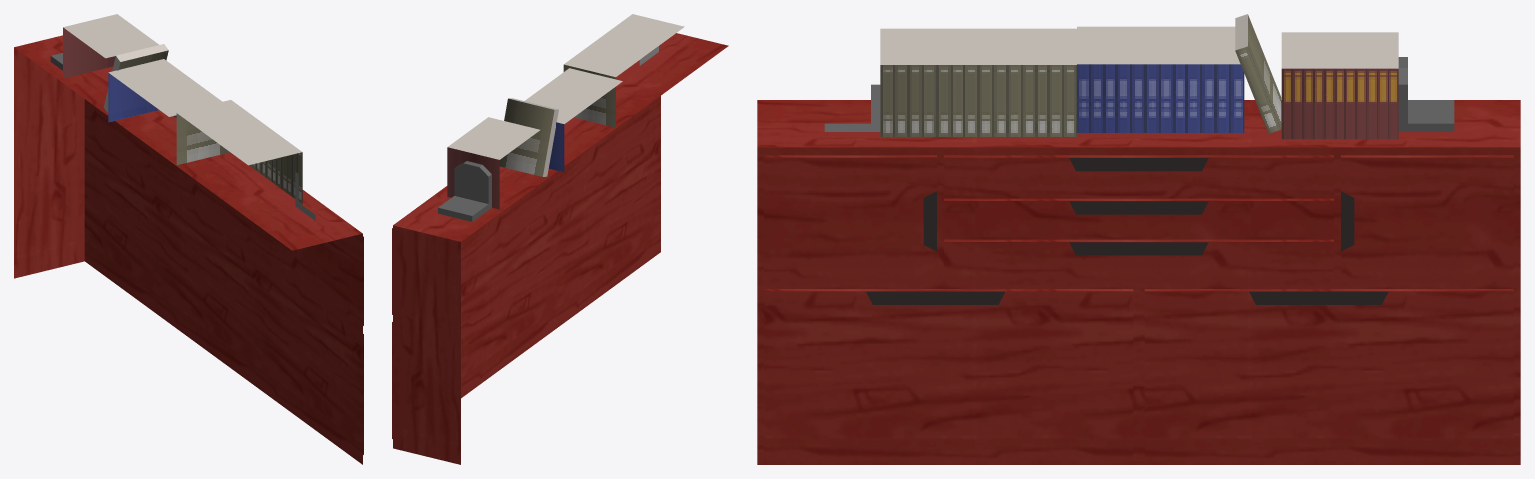
File: interior_D_012.fbx
3 views of the same model, side by side, from view 1: azimuth 30°, elevation 25°; view 2: azimuth 150°, elevation 25°; view 3: azimuth 270°, elevation 25° (orthographic). The views are drawn at different scales.
Visible parts, largest first — view 1: interior_D_012; view 2: interior_D_012; view 3: interior_D_012.
Boxes of the visible parts, left/top/right/bottom form: interior_D_012: left=14, top=14, right=363, bottom=464; interior_D_012: left=392, top=14, right=728, bottom=464; interior_D_012: left=757, top=14, right=1520, bottom=464.
Bounding box in the file's own units: 45.73 × 159 × 271.
Materials: 8 (4 with a texture image).
